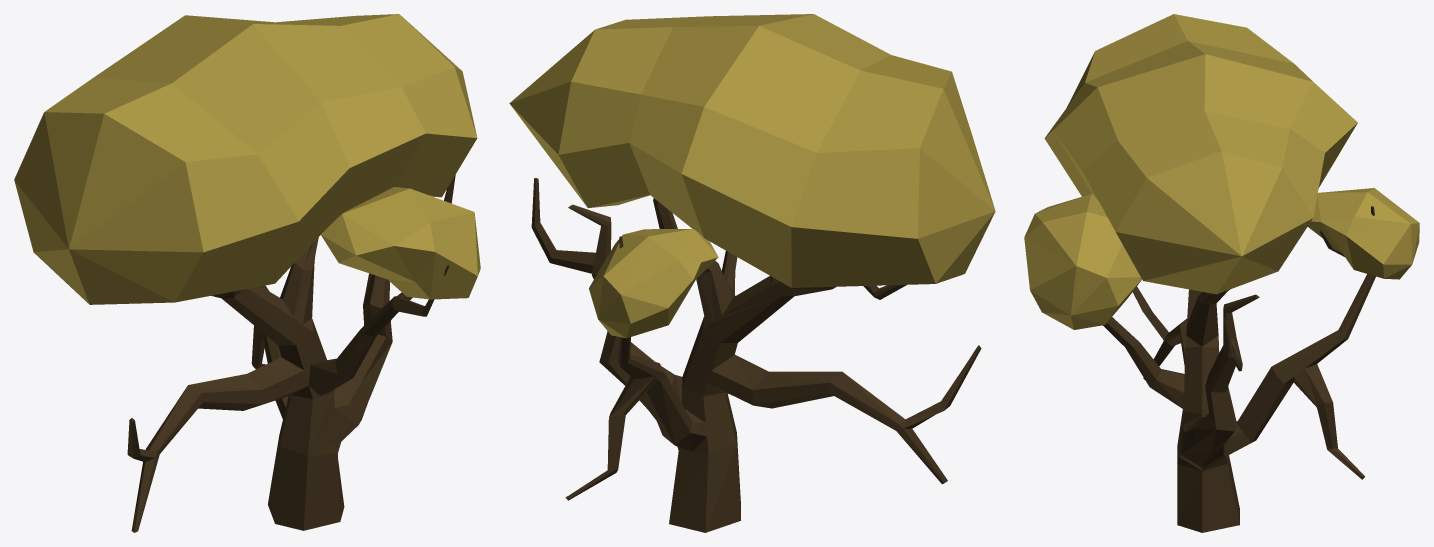
The model's file is tree1.fbx.
3 renders of one model, left to right at view 1: azimuth 30°, elevation 25°; view 2: azimuth 150°, elevation 25°; view 3: azimuth 270°, elevation 25°, orthographic. The views are drawn at different scales.
Parts seen in each view (by area): view 1: Sphere037, Cylinder117, Sphere039; view 2: Sphere037, Cylinder117, Sphere103; view 3: Sphere037, Cylinder117, Sphere039, Sphere103.
Part boxes in pixels (x1=…): Sphere037: x1=14, y1=14, x2=477, y2=304; Cylinder117: x1=127, y1=175, x2=455, y2=532; Sphere039: x1=320, y1=187, x2=480, y2=299; Sphere037: x1=509, y1=14, x2=995, y2=287; Cylinder117: x1=531, y1=178, x2=981, y2=532; Sphere103: x1=589, y1=229, x2=718, y2=338; Sphere037: x1=1044, y1=14, x2=1357, y2=294; Cylinder117: x1=1103, y1=206, x2=1375, y2=532; Sphere039: x1=1024, y1=194, x2=1141, y2=329; Sphere103: x1=1307, y1=188, x2=1419, y2=279.
Bounding box in the file's own units: 1617 × 1764 × 1434.
